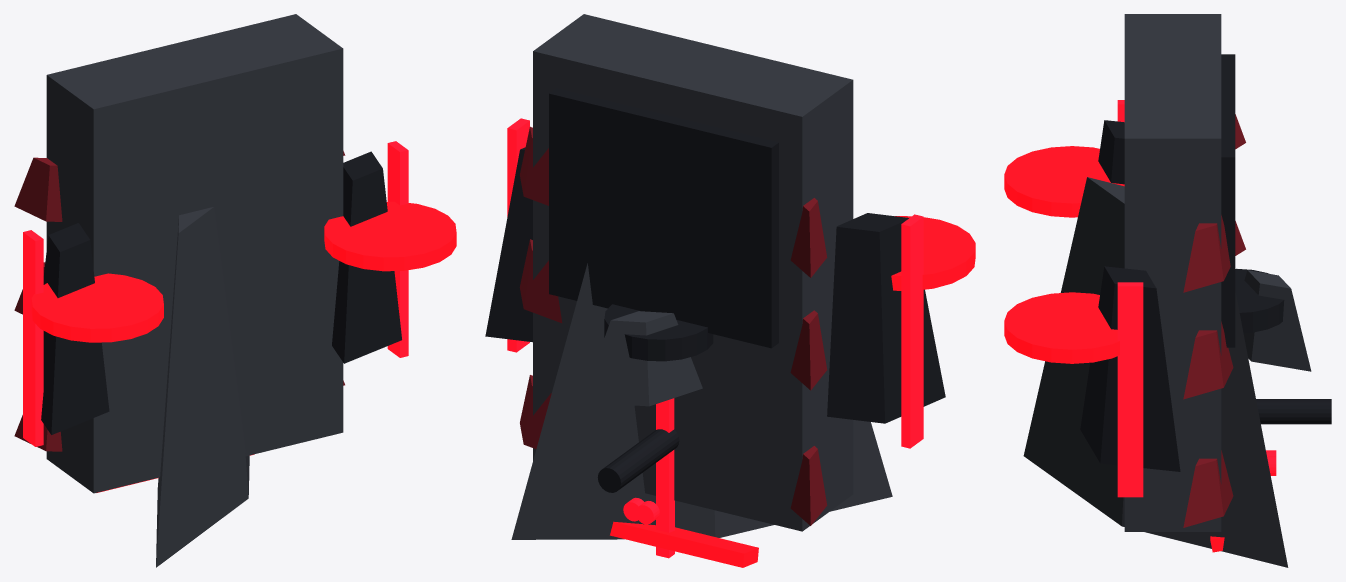
Rendered from xenon_vehicle_detailed.glb.
3 views of the same model, side by side, from view 1: azimuth 30°, elevation 25°; view 2: azimuth 150°, elevation 25°; view 3: azimuth 270°, elevation 25° (orthographic). The views are drawn at different scales.
Parts seen in each view (by area): view 1: xenon armored core, xenon spear hull, hover engine pod, hover engine pod.001, lift field, lift field.001, red engine strip, red engine strip.001, armor spine.002, armor spine; view 2: xenon armored core, xenon troop bay, xenon spear hull, hover engine pod, xenon turret, red engine strip, hover engine pod.001, lift field, red sensor visor, xenon turret ring, xenon plasma cannon, red central seam (+7 smaller); view 3: xenon armored core, xenon spear hull, hover engine pod.001, lift field.001, red engine strip.001, lift field, xenon troop bay, xenon turret, armor spine.003, armor spine.004, armor spine.005, xenon plasma cannon (+2 smaller).
Part boxes in pixels (box(x1,y1,x2,y2)): xenon armored core: box(46, 14, 343, 493); xenon spear hull: box(156, 207, 249, 567); hover engine pod: box(41, 223, 109, 434); hover engine pod.001: box(332, 151, 401, 363); lift field: box(31, 273, 163, 342); lift field.001: box(324, 201, 456, 271); red engine strip: box(23, 230, 43, 446); red engine strip.001: box(387, 141, 408, 357); armor spine.002: box(14, 157, 62, 221); armor spine: box(14, 415, 62, 451); xenon armored core: box(533, 14, 853, 531); xenon troop bay: box(549, 88, 778, 348); xenon spear hull: box(511, 263, 892, 539); hover engine pod: box(827, 213, 945, 423); xenon turret: box(582, 311, 702, 406); red engine strip: box(901, 214, 923, 448); hover engine pod.001: box(485, 147, 532, 342); lift field: box(891, 216, 975, 290); red sensor visor: box(610, 521, 758, 567); xenon turret ring: box(604, 304, 713, 361); xenon plasma cannon: box(597, 429, 679, 492); red central seam: box(656, 398, 674, 558); xenon armored core: box(1124, 14, 1221, 531); xenon spear hull: box(1023, 177, 1288, 567); hover engine pod.001: box(1080, 266, 1180, 471); lift field.001: box(1004, 292, 1119, 363); red engine strip.001: box(1117, 282, 1143, 497); lift field: box(1004, 146, 1124, 217); xenon troop bay: box(1221, 54, 1235, 347); xenon turret: box(1243, 270, 1311, 371); armor spine.003: box(1183, 450, 1233, 527); armor spine.004: box(1183, 321, 1233, 399); armor spine.005: box(1183, 215, 1230, 292); xenon plasma cannon: box(1256, 399, 1331, 424).
Bounding box in the file's own units: 3.4 × 3.46 × 2.31.
